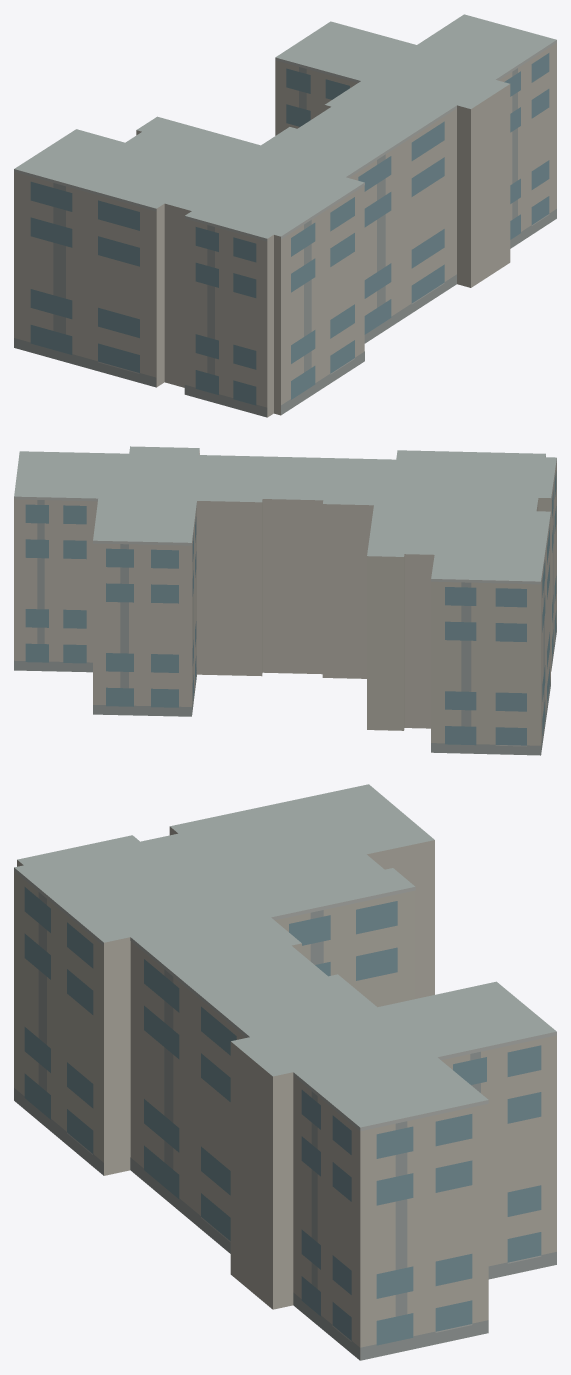
The model's file is residential-3b566584-c363-4e37-a7a1-a4016280467c.glb.
3 renders of one model, top to bottom at view 1: azimuth 30°, elevation 25°; view 2: azimuth 150°, elevation 25°; view 3: azimuth 270°, elevation 25°, orthographic. The views are drawn at different scales.
Visible parts, largest first — view 1: residential-3b566584-c363-4e37-a7a1-a4016280467c.tmp; view 2: residential-3b566584-c363-4e37-a7a1-a4016280467c.tmp; view 3: residential-3b566584-c363-4e37-a7a1-a4016280467c.tmp.
Boxes of the visible parts, x1=… form: residential-3b566584-c363-4e37-a7a1-a4016280467c.tmp: x1=14, y1=14, x2=556, y2=417; residential-3b566584-c363-4e37-a7a1-a4016280467c.tmp: x1=14, y1=446, x2=556, y2=755; residential-3b566584-c363-4e37-a7a1-a4016280467c.tmp: x1=14, y1=784, x2=556, y2=1360.
Size of the model in its own units: 48.16 by 15.25 by 32.18.
